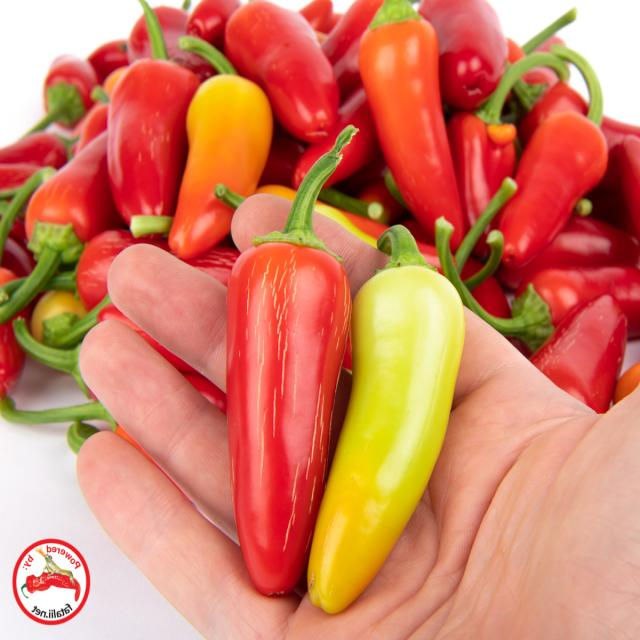Jalepeno: (214, 117, 356, 602), (311, 219, 471, 611), (489, 46, 617, 285), (352, 0, 478, 237), (105, 6, 201, 273), (0, 120, 134, 309), (162, 34, 277, 251), (212, 0, 340, 157)
